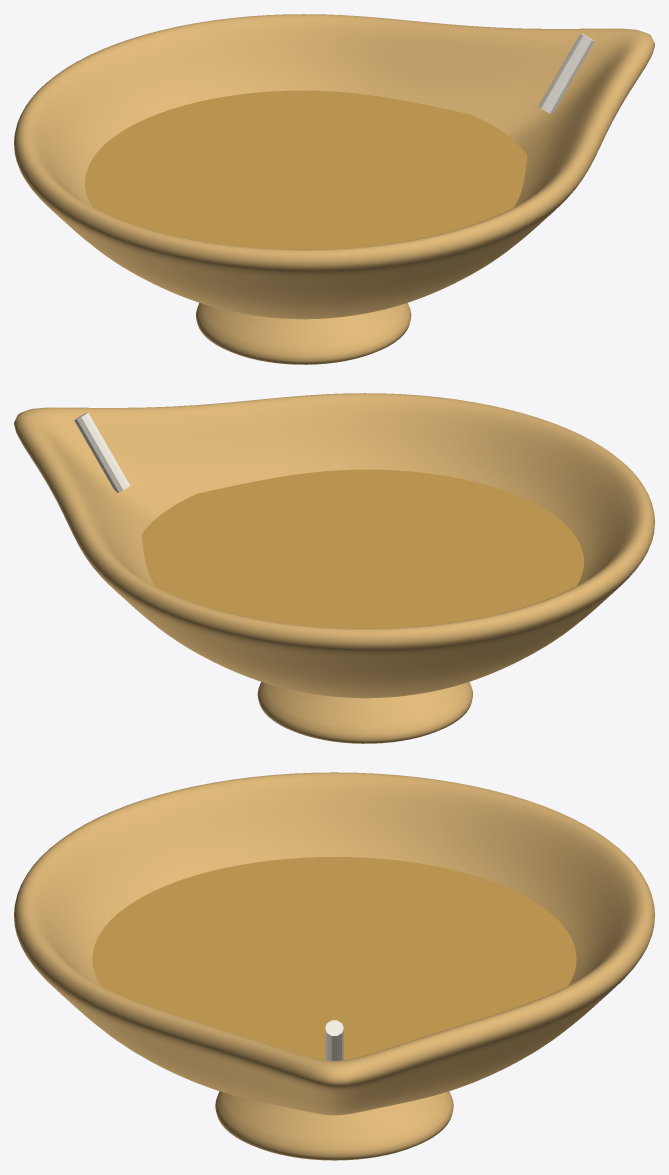
File: divi-diya.glb
3 views of the same model, one above another, from view 1: azimuth 30°, elevation 25°; view 2: azimuth 150°, elevation 25°; view 3: azimuth 270°, elevation 25° (orthographic). The views are drawn at different scales.
Visible parts, largest first — view 1: Diya bowl, Circle, Diya foot, Cylinder; view 2: Diya bowl, Circle, Diya foot, Cylinder; view 3: Diya bowl, Circle, Diya foot, Cylinder.
Boxes of the visible parts, bbox=[...] form: Diya bowl: bbox=[14, 14, 654, 319]; Circle: bbox=[85, 90, 527, 249]; Diya foot: bbox=[196, 303, 411, 364]; Cylinder: bbox=[538, 33, 594, 113]; Diya bowl: bbox=[14, 393, 654, 698]; Circle: bbox=[141, 469, 583, 628]; Diya foot: bbox=[257, 682, 472, 743]; Cylinder: bbox=[74, 412, 130, 492]; Diya bowl: bbox=[14, 772, 654, 1115]; Circle: bbox=[92, 857, 576, 1060]; Diya foot: bbox=[215, 1091, 453, 1160]; Cylinder: bbox=[325, 1020, 343, 1060].
Size of the model in its own units: 0.9799 by 0.3471 by 0.8199.
